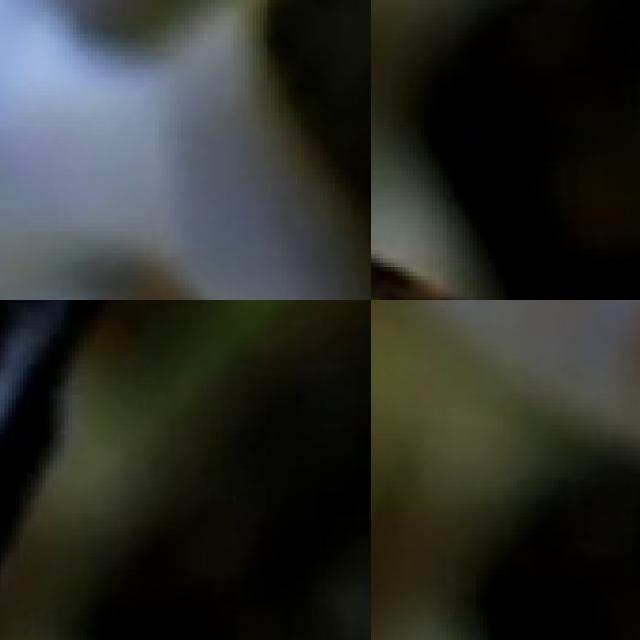fish: (0, 0, 371, 300), (397, 300, 640, 640), (0, 300, 233, 640)
